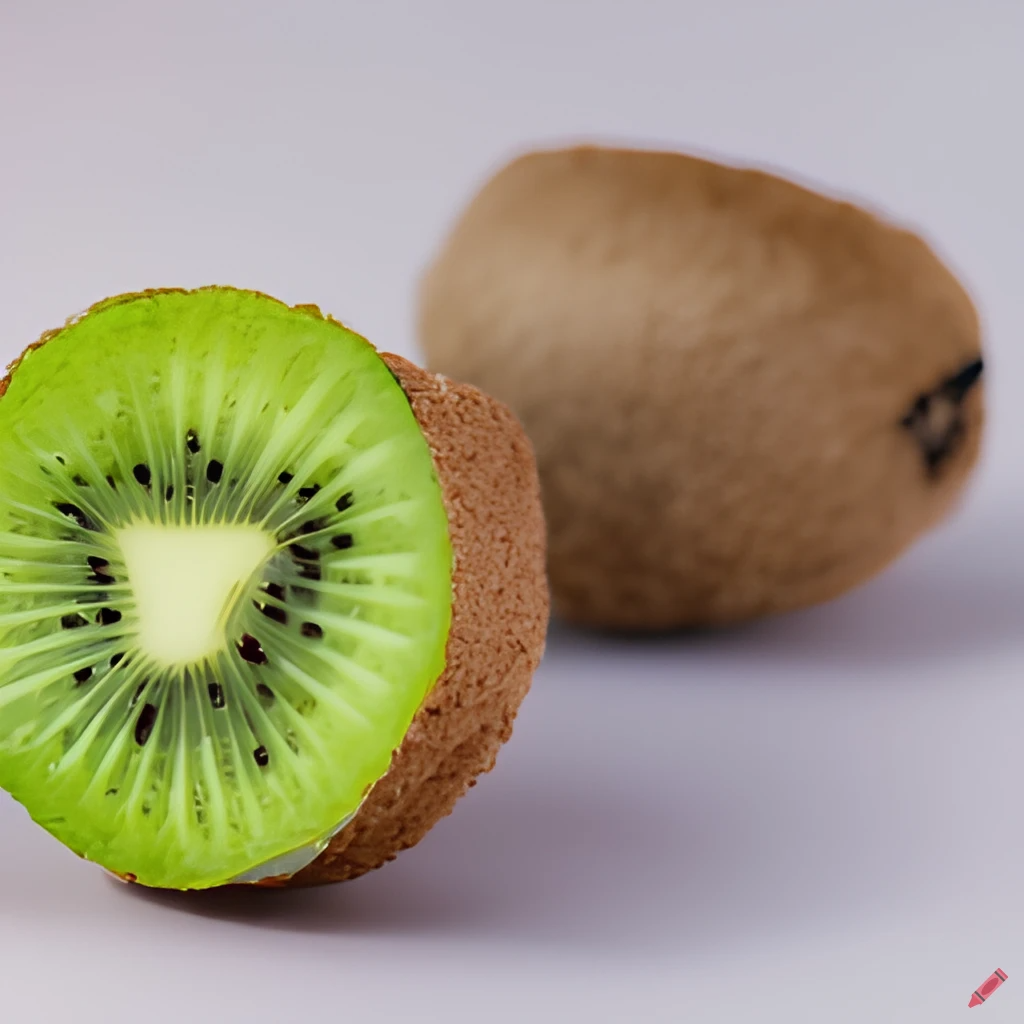Kiwi: (0, 272, 528, 900), (366, 144, 980, 662)
